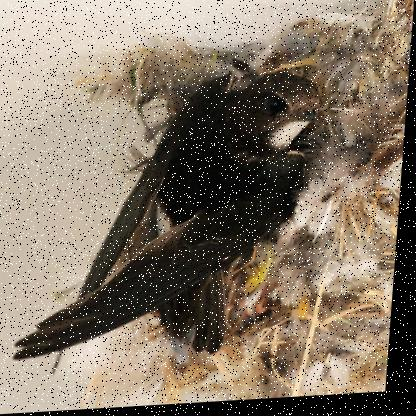Burung: (18, 69, 324, 366)
